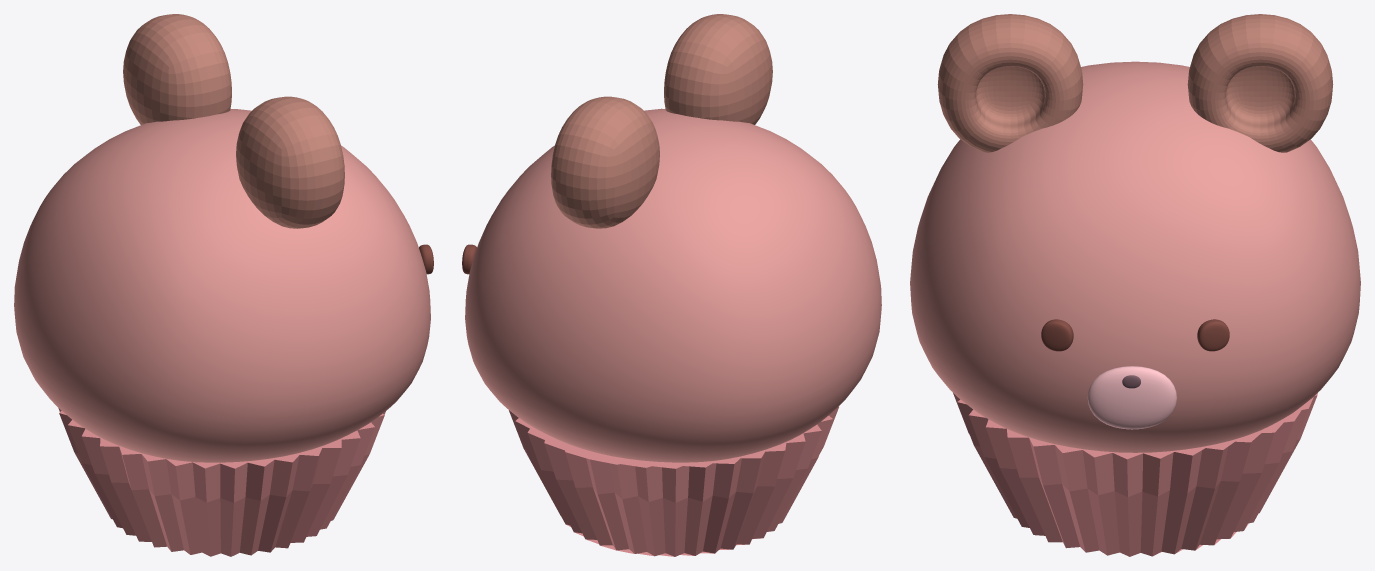
The model's file is BearMuffin.fbx.
The picture shows the model from 3 angles, left to right: view 1: azimuth 30°, elevation 25°; view 2: azimuth 150°, elevation 25°; view 3: azimuth 270°, elevation 25°; orthographic projection. The views are drawn at different scales.
Parts seen in each view (by area): view 1: Cube.001, Circle.001, Plane.011; view 2: Cube.001, Circle.001, Plane.011; view 3: Cube.001, Plane.011, Circle.001, Plane.008, Plane.006.
Part boxes in pixels (x1=…): Cube.001: x1=14, y1=109, x2=430, y2=462; Circle.001: x1=58, y1=408, x2=385, y2=556; Plane.011: x1=123, y1=14, x2=344, y2=228; Cube.001: x1=465, y1=108, x2=881, y2=462; Circle.001: x1=509, y1=406, x2=838, y2=556; Plane.011: x1=551, y1=14, x2=772, y2=228; Cube.001: x1=910, y1=61, x2=1360, y2=452; Plane.011: x1=937, y1=14, x2=1333, y2=152; Circle.001: x1=953, y1=393, x2=1317, y2=556; Plane.008: x1=1087, y1=366, x2=1176, y2=429; Plane.006: x1=1041, y1=319, x2=1229, y2=351.
Size of the model in its own units: 137 by 160 by 133.
